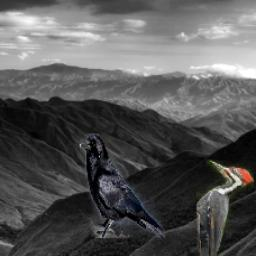Crow: (80, 133, 165, 238)
Woodpecker: (195, 161, 253, 256)
